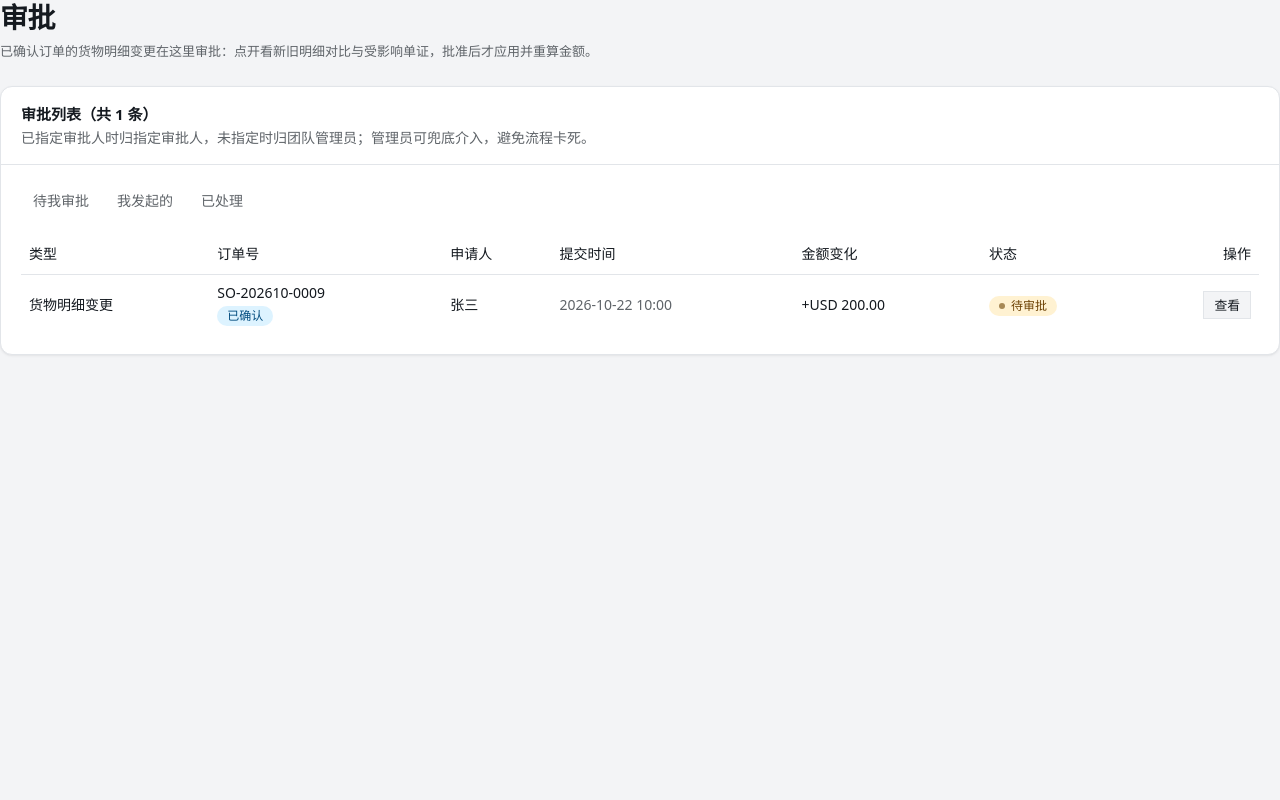
Test: 审批详情与决策 › A2 聚合行带 affected_docs：直接渲染行内清单，不请求 /trade-docs（含批准确认）
What coordinates should you click on to do the following:
click the button "查看"
I would click on:
 (1227, 305)
Its box is [1203, 291, 1251, 319].
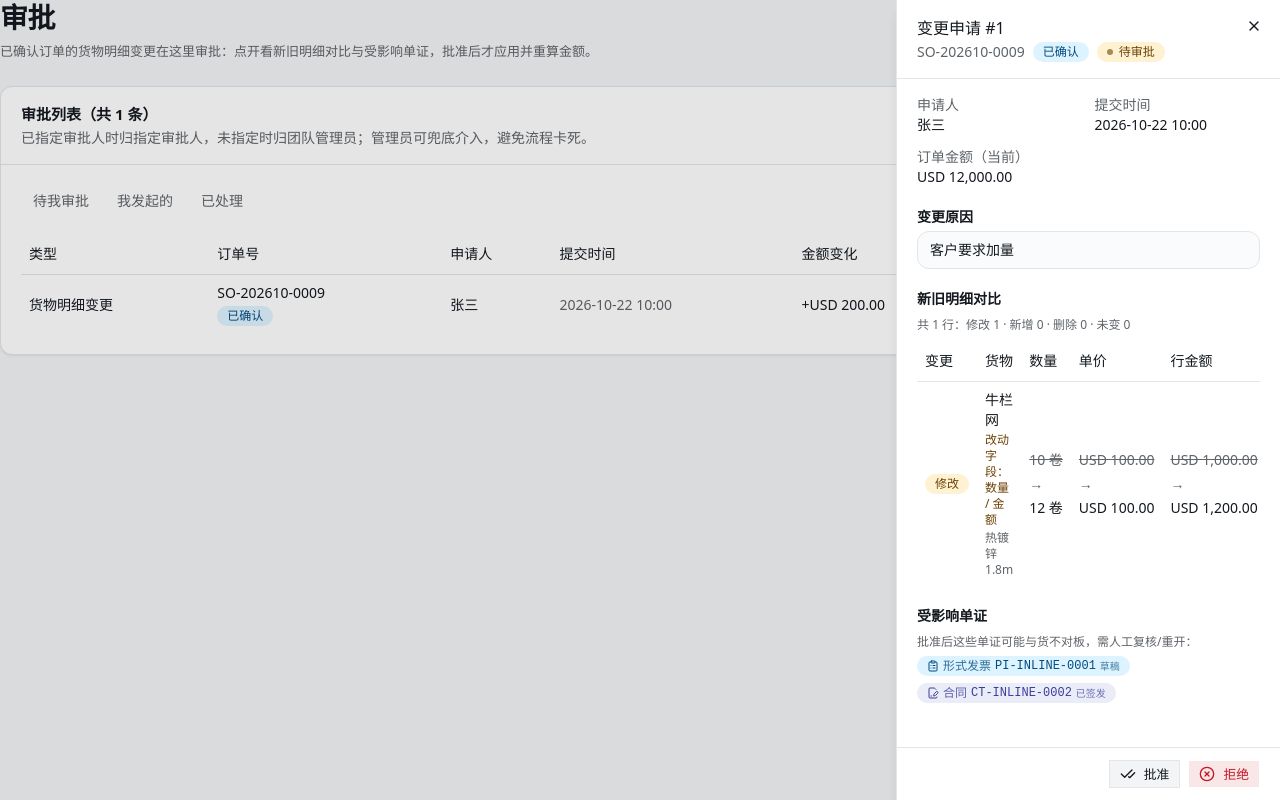
Check: the text "PI-INLINE-0001" is shown, box [995, 658, 1096, 674]
Check: the text "CT-INLINE-0002" is shown, box [971, 684, 1072, 700]
Check: the text "形式发票" is shown, box [943, 658, 991, 674]
What coordinates should you click on to do the following:
click the button "批准"
I would click on:
 (1145, 774)
Its box is [1109, 760, 1180, 788].
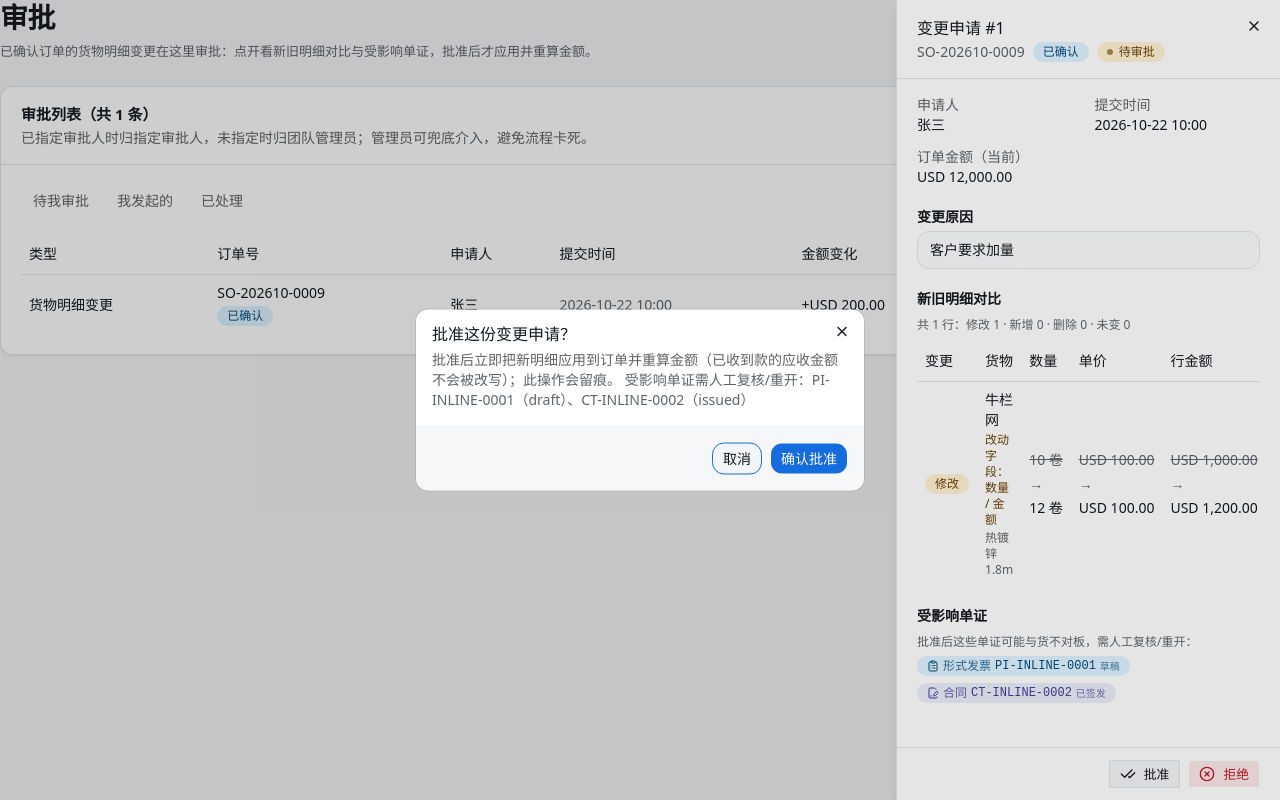
Check: the text "PI-INLINE-0001" is shown, box [995, 658, 1096, 674]
Check: the text "CT-INLINE-0002" is shown, box [971, 684, 1072, 700]
Check: the text "受影响单证需人工复核/重开" is shown, box [432, 350, 838, 408]
